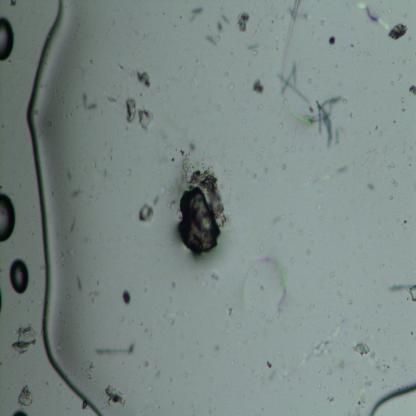Air bubble: (368, 385, 416, 416), (9, 254, 33, 297), (0, 15, 19, 63), (0, 192, 17, 243)
Background material: (25, 22, 104, 416), (242, 256, 289, 324), (171, 140, 219, 192), (312, 92, 344, 146), (305, 320, 346, 360), (93, 335, 135, 362), (358, 0, 387, 36), (11, 321, 38, 358), (388, 277, 416, 305), (135, 194, 158, 228), (353, 338, 378, 358), (77, 89, 97, 113), (16, 378, 32, 407), (108, 383, 129, 403), (140, 109, 156, 134), (392, 13, 404, 45), (137, 70, 154, 92), (235, 11, 251, 34), (115, 288, 133, 307), (123, 98, 136, 124), (244, 41, 261, 58), (250, 78, 264, 96), (76, 270, 86, 292), (70, 212, 82, 230), (104, 90, 118, 105), (70, 186, 85, 200), (188, 4, 200, 21), (262, 358, 275, 373), (374, 358, 386, 374), (209, 266, 221, 282), (334, 164, 352, 173), (115, 58, 124, 72), (220, 12, 231, 23), (362, 375, 372, 387), (226, 80, 236, 92), (87, 291, 96, 304), (329, 35, 339, 46), (408, 85, 416, 98), (323, 396, 336, 404), (208, 33, 216, 46), (366, 181, 376, 191), (273, 34, 279, 50), (314, 198, 322, 210), (254, 152, 262, 164), (250, 170, 260, 179), (355, 400, 365, 409), (210, 342, 220, 350), (169, 280, 177, 290), (391, 177, 399, 187), (208, 371, 214, 383), (215, 21, 222, 31), (59, 252, 66, 262), (341, 95, 348, 105), (314, 382, 322, 390), (228, 358, 236, 366), (226, 308, 232, 318), (388, 163, 396, 170), (283, 144, 290, 152), (308, 173, 314, 182), (156, 369, 162, 378), (148, 328, 153, 338), (306, 76, 313, 83), (125, 166, 131, 174), (258, 283, 264, 291), (276, 232, 282, 240), (388, 194, 394, 202), (216, 103, 222, 111), (338, 292, 345, 298), (397, 74, 403, 81), (281, 164, 287, 171), (318, 214, 324, 221), (264, 165, 269, 173), (390, 80, 396, 86), (320, 20, 326, 26), (354, 323, 359, 330), (144, 361, 149, 368), (348, 298, 353, 305), (120, 314, 124, 322), (306, 248, 310, 256), (326, 370, 332, 375), (299, 230, 304, 236), (409, 330, 414, 336), (208, 396, 212, 403), (387, 363, 391, 370), (358, 244, 363, 249), (330, 272, 336, 276), (184, 373, 188, 379), (170, 318, 173, 326), (149, 386, 153, 392), (379, 303, 382, 310), (180, 354, 184, 359), (404, 219, 408, 224), (261, 312, 265, 317), (344, 216, 348, 220), (277, 350, 281, 354), (346, 263, 349, 268), (379, 132, 382, 137), (261, 407, 264, 411), (402, 109, 406, 112), (341, 377, 343, 382), (172, 400, 174, 404)
Fragment: (169, 183, 227, 265)
Glass filter fibre: (279, 0, 317, 125)
